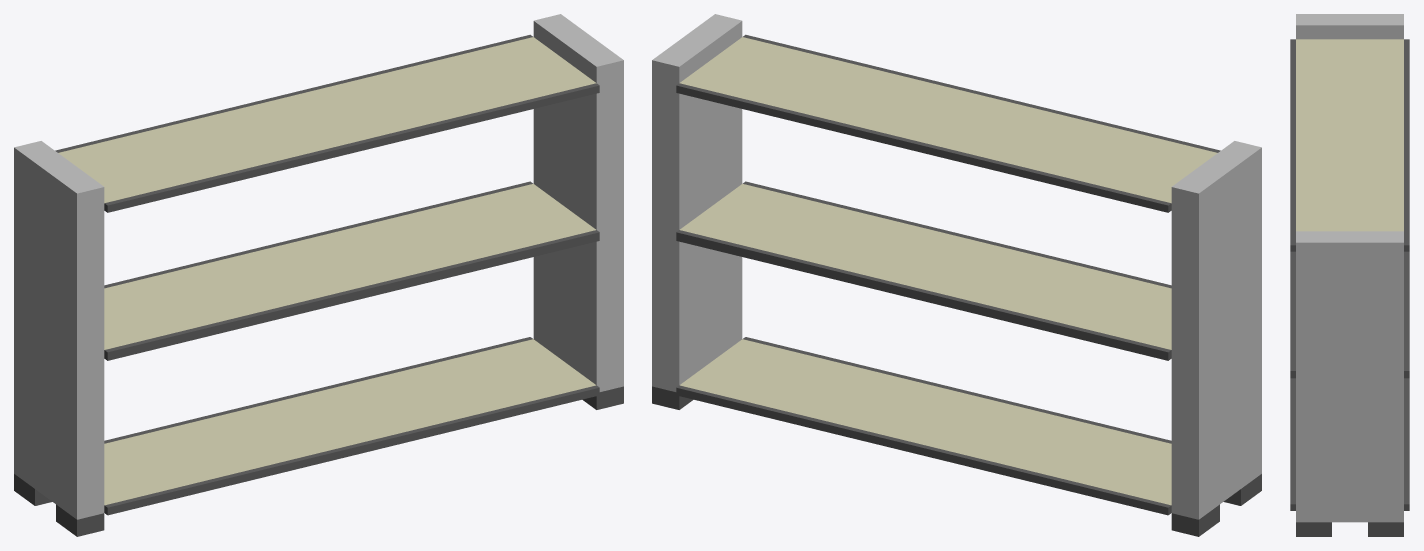
The model's file is Isle Shelf.fbx.
The picture shows the model from 3 angles, left to right: view 1: azimuth 30°, elevation 25°; view 2: azimuth 150°, elevation 25°; view 3: azimuth 270°, elevation 25°; orthographic projection. The views are drawn at different scales.
Visible parts, largest first — view 1: Isle Shelf; view 2: Isle Shelf; view 3: Isle Shelf.
Boxes of the visible parts, bbox=[...] form: Isle Shelf: bbox=[14, 14, 623, 536]; Isle Shelf: bbox=[652, 14, 1261, 536]; Isle Shelf: bbox=[1290, 14, 1409, 536].
Size of the model in its own units: 1000 by 600 by 220.
